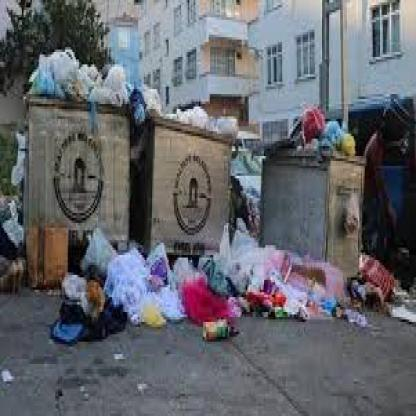Garbage: (180, 258, 296, 339), (107, 242, 174, 340), (23, 47, 128, 102), (258, 104, 360, 154), (137, 84, 228, 122), (304, 270, 351, 327)
